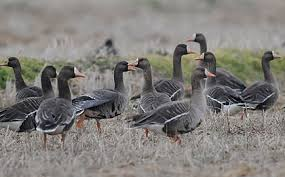goose: (126, 65, 216, 146), (70, 60, 137, 134), (37, 63, 87, 154), (1, 65, 59, 128), (185, 32, 247, 90), (195, 52, 242, 115), (240, 49, 282, 109), (127, 57, 168, 112), (156, 43, 195, 92), (1, 55, 42, 98)
